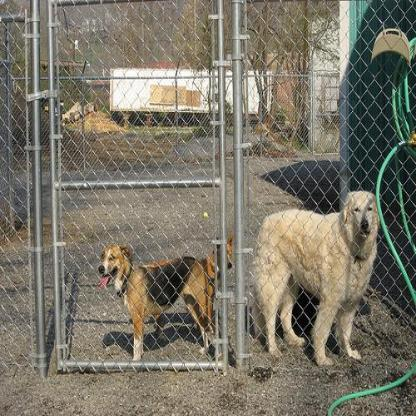kuvasz: (249, 185, 378, 364)
